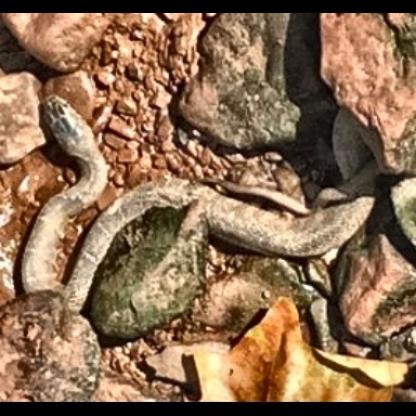Snake: (21, 88, 416, 315)
